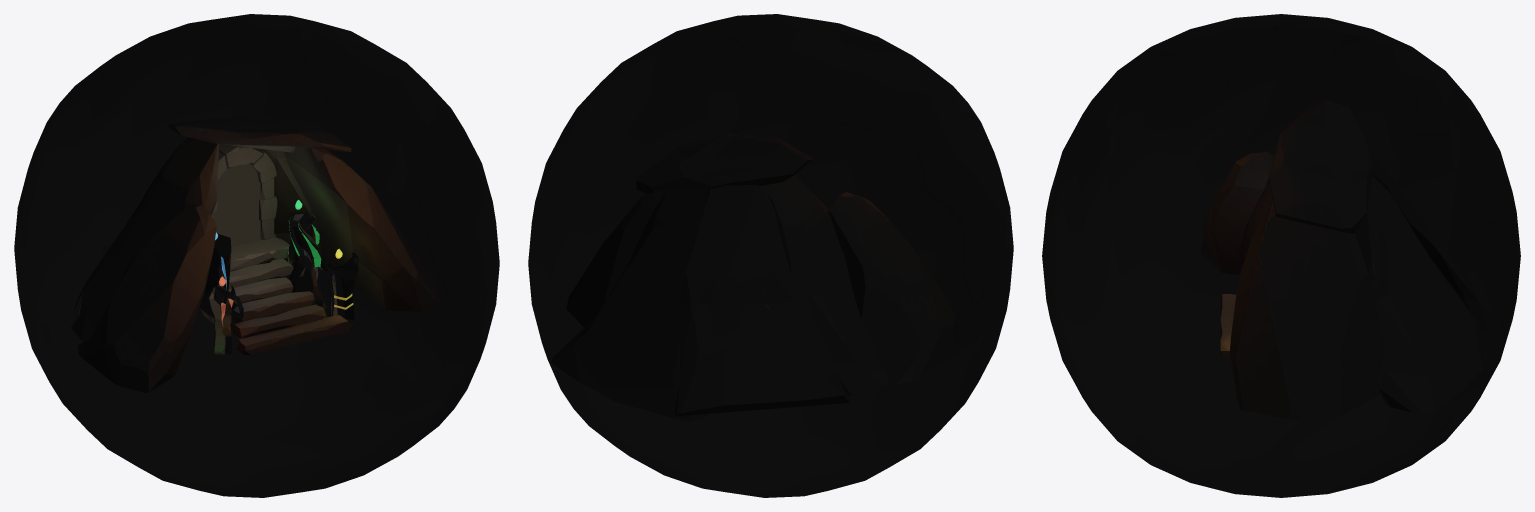
File: echo_gate.glb
3 views of the same model, side by side, from view 1: azimuth 30°, elevation 25°; view 2: azimuth 150°, elevation 25°; view 3: azimuth 270°, elevation 25° (orthographic).
Visible parts, largest first — view 1: Sphere, doorstep, rightDoor, leftDoor; view 2: Sphere, doorstep; view 3: Sphere, doorstep.
Boxes of the visible parts, left/top/right/bottom form: Sphere: left=14, top=14, right=499, bottom=497; doorstep: left=71, top=115, right=440, bottom=393; rightDoor: left=236, top=163, right=260, bottom=244; leftDoor: left=214, top=166, right=236, bottom=246; Sphere: left=528, top=14, right=1013, bottom=497; doorstep: left=551, top=133, right=959, bottom=421; Sphere: left=1042, top=14, right=1520, bottom=497; doorstep: left=1201, top=100, right=1499, bottom=421.
Size of the model in its own units: 25.72 by 25.72 by 25.72.
7 materials, 1 textured.
